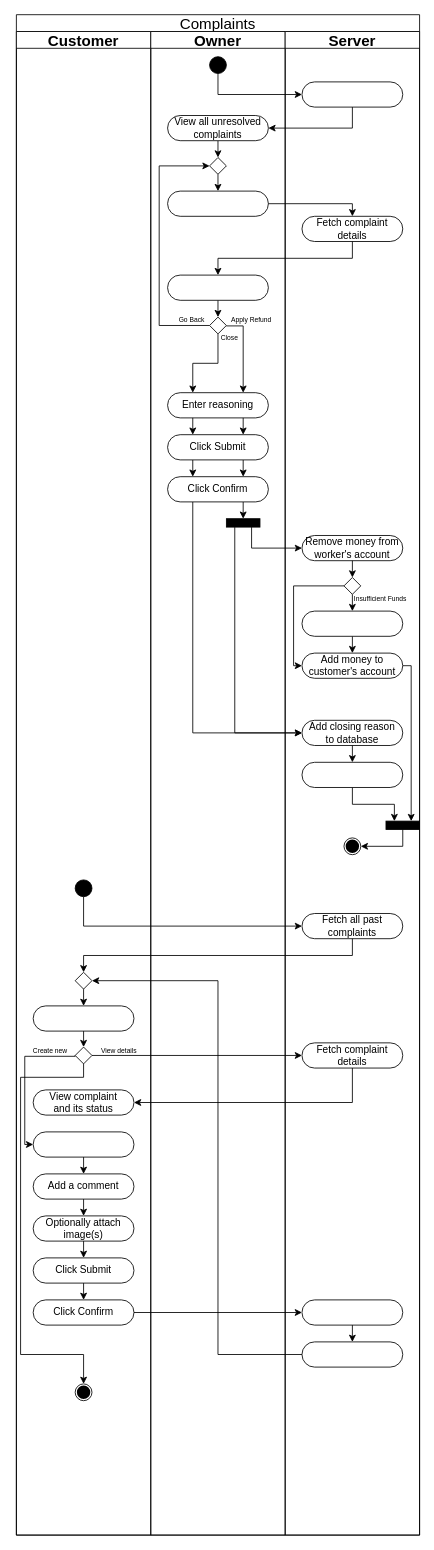
Some shapes in this 434 by 1550 pixel diagram are drawn without their labels. The centre of each missing label's shape, as x and y in pixels:
Fetch all unresolved complaints: the point at 352,94
Mark complaint as unresolved: the point at 352,1354
Mark the complaint as closed: the point at 352,774
Pick a complaint to view more details on: the point at 217,203
Select reason or "other": the point at 83,1144
Show all complaints: the point at 83,1018
Store complaint in database: the point at 352,1312
Suspend worker's account: the point at 352,623
View complaint details: the point at 217,287
